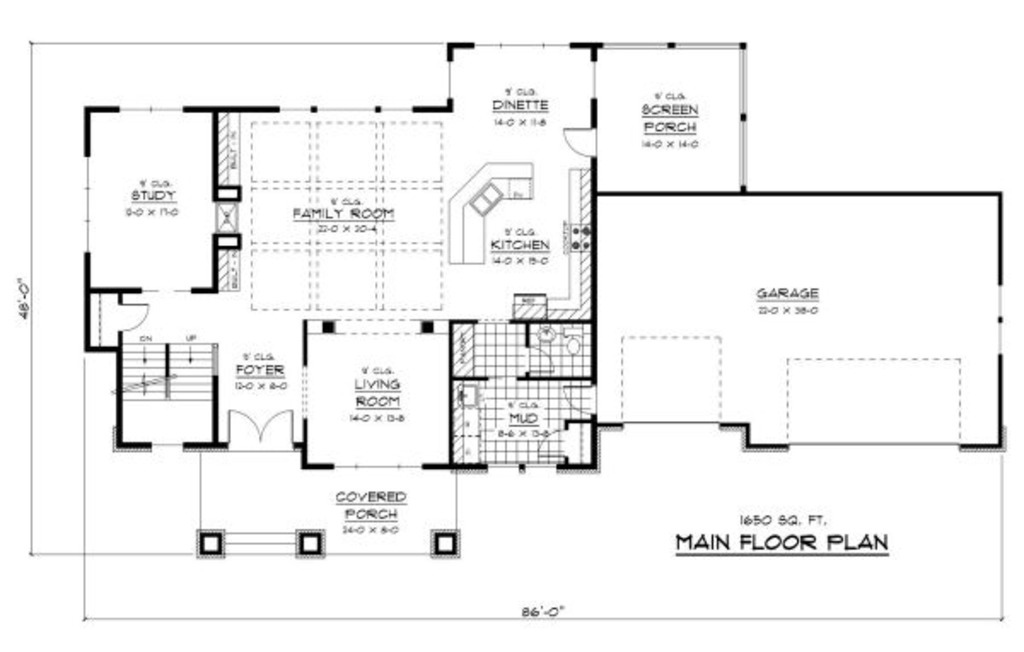door: (224, 409, 303, 454), (558, 117, 607, 167), (534, 424, 576, 464), (565, 382, 604, 420), (107, 299, 151, 329), (525, 343, 552, 380)
kitchen_bar: (424, 146, 550, 276)
large_sink: (560, 324, 591, 358)
small_sink: (524, 316, 562, 344)
stairs: (115, 332, 226, 450)
twin_sink: (456, 176, 518, 227)
window: (990, 276, 1012, 364), (114, 100, 196, 123), (77, 153, 92, 254), (332, 458, 428, 471)
